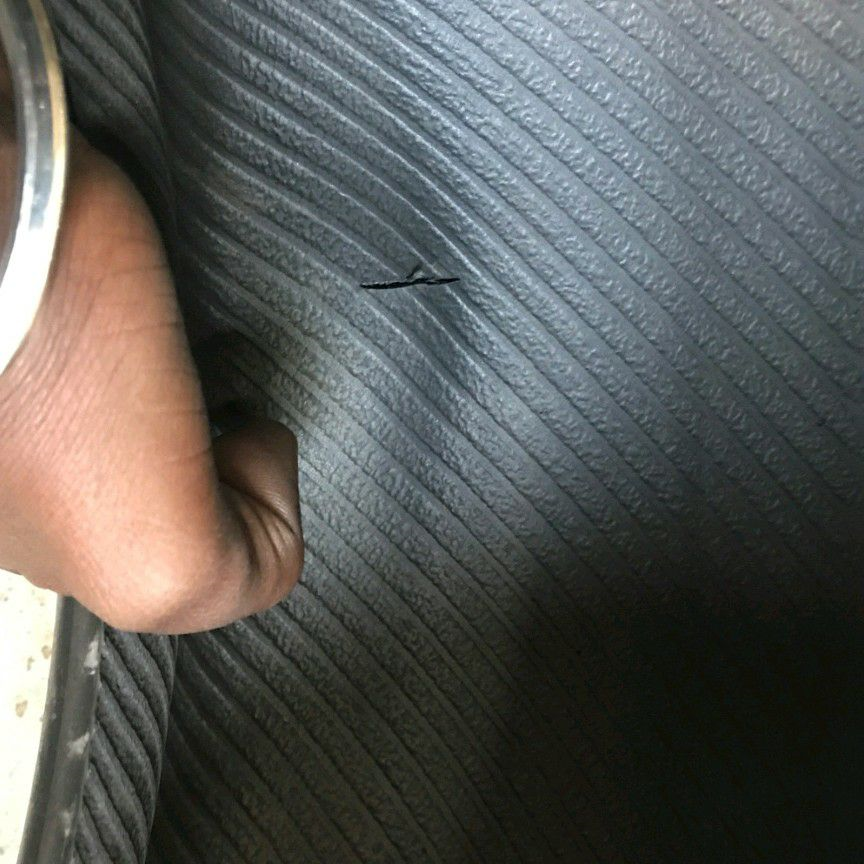CBU: (275, 253, 464, 520)
cut: (357, 273, 466, 294)
